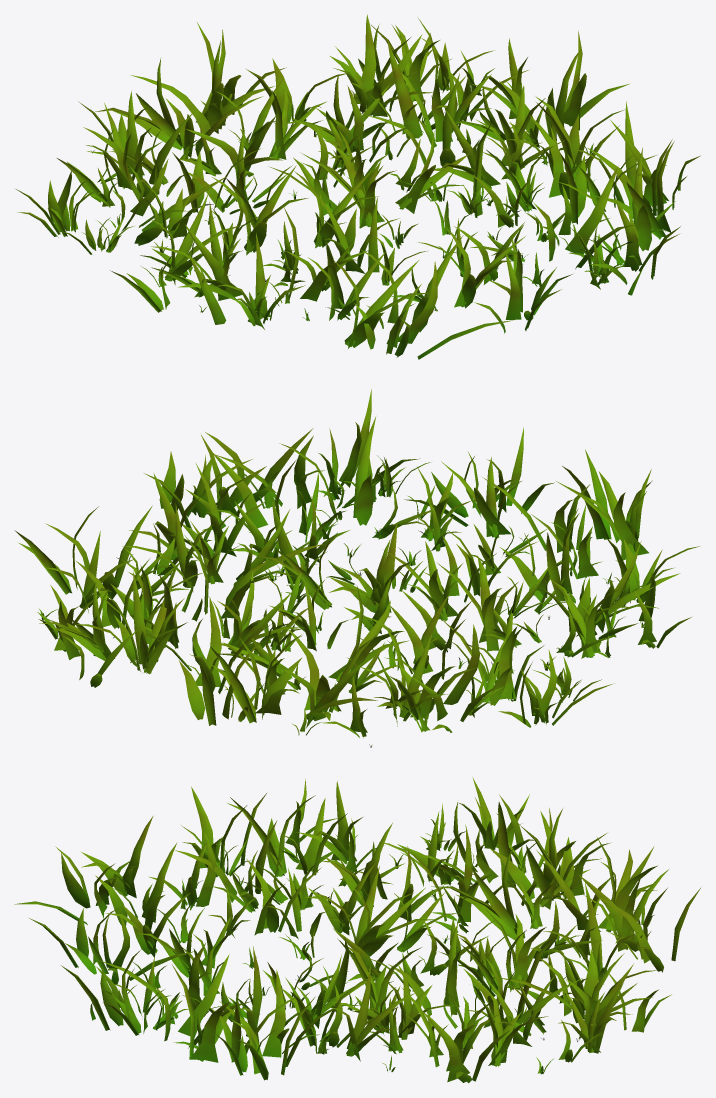
Rendered from low_poly_cartoon_grass.glb.
The picture shows the model from 3 angles, top to bottom: view 1: azimuth 30°, elevation 25°; view 2: azimuth 150°, elevation 25°; view 3: azimuth 270°, elevation 25°; orthographic projection. The views are drawn at different scales.
Visible parts, largest first — view 1: Plane.002; view 2: Plane.002; view 3: Plane.002.
Part boxes in pixels (<box>): Plane.002: <box>16,14,700,359</box>; Plane.002: <box>14,389,700,747</box>; Plane.002: <box>14,777,700,1083</box>.
Size of the model in its own units: 16.66 by 2.47 by 16.72.
Materials: 2 (1 with a texture image).
